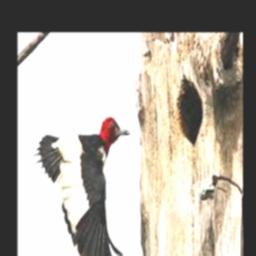Woodpecker: (33, 117, 129, 256)
